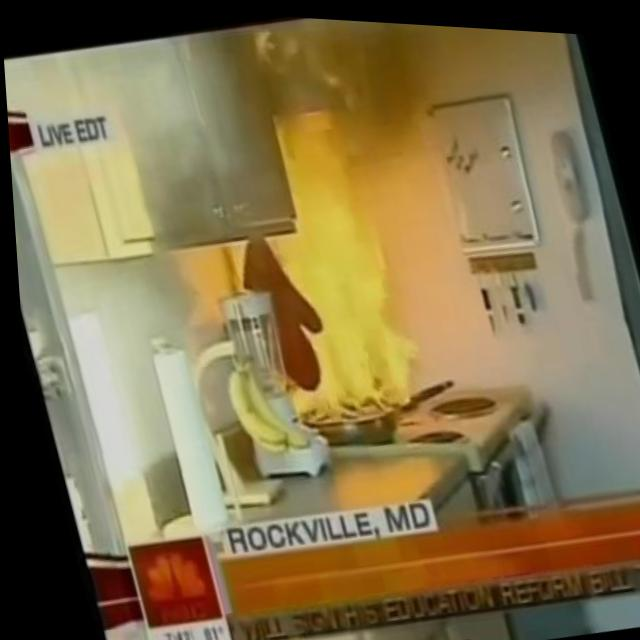fire: (263, 207, 423, 422)
